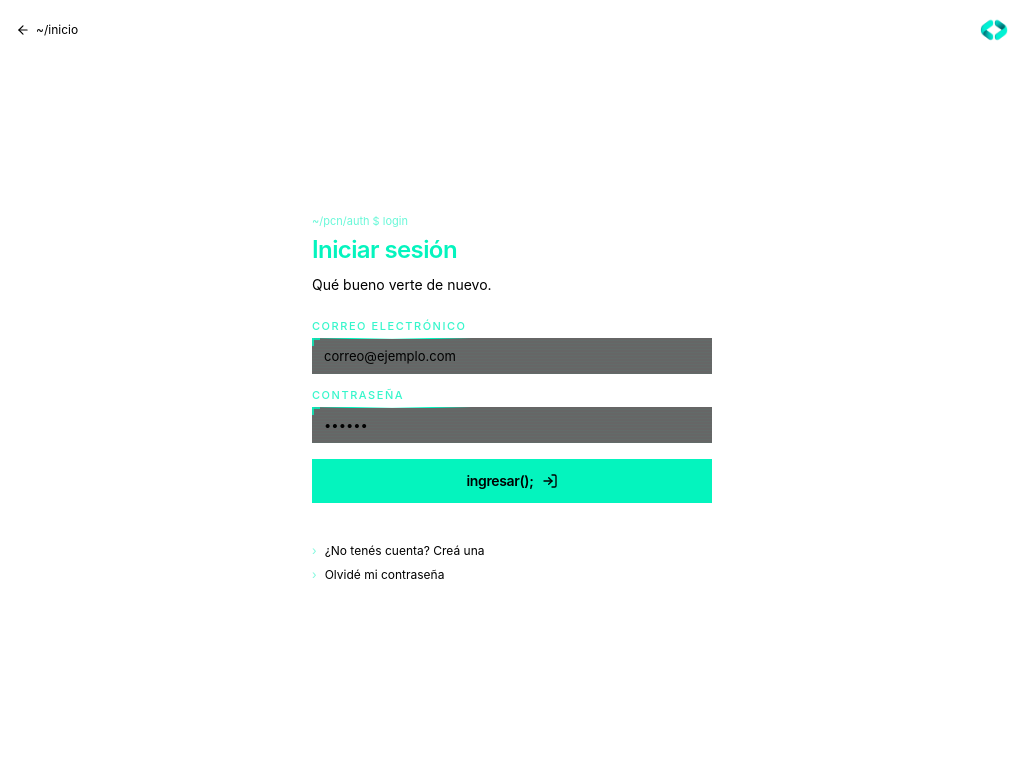
Test: SignInPage › two-factor step › reports a wrong code and goes back to the password when it expires
Type "ana@example.com" into the field labelled "Correo electrónico" at [512, 356], box 312,338 -> 712,374
Type "secreta" into the password field labelled "Contraseña" at [512, 425], box 312,407 -> 712,443
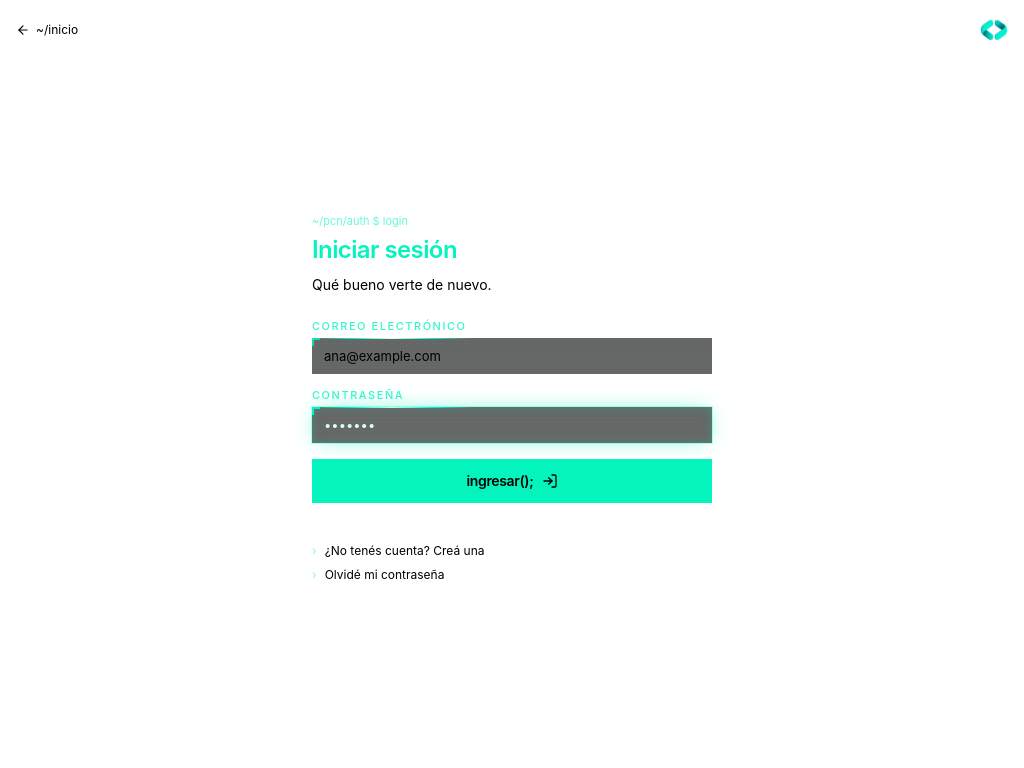
Click the button "ingresar();" at [512, 481], box 312,459 -> 712,503
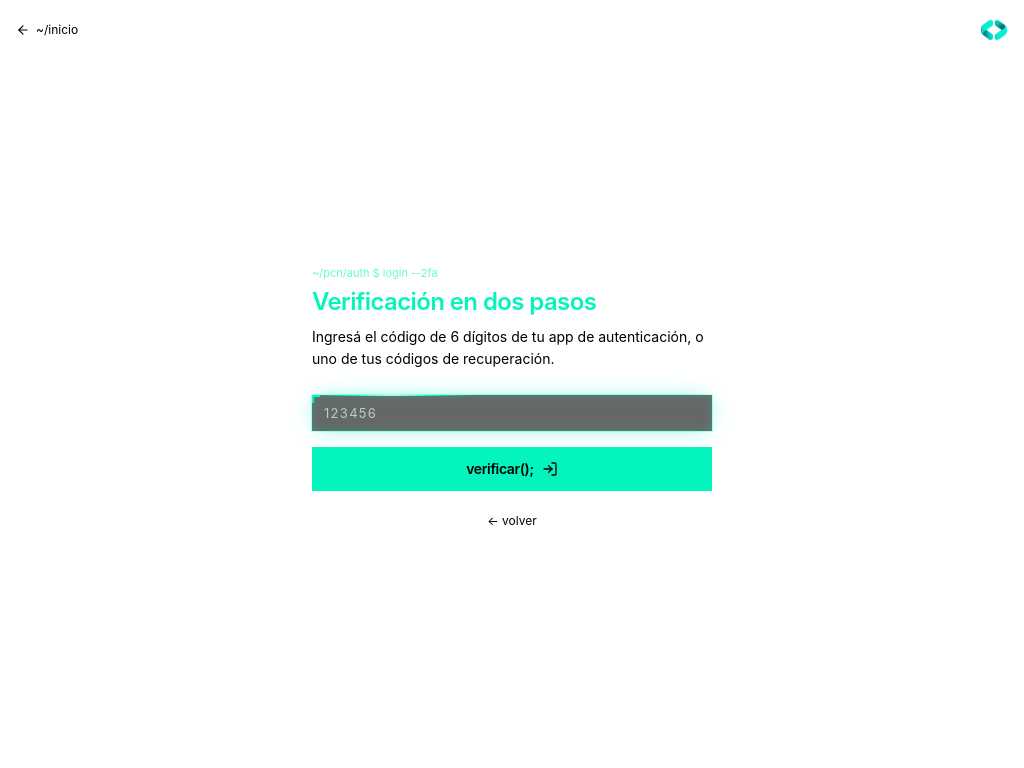
Type "000000" into the field named "Código de verificación" at [512, 413], box 312,395 -> 712,431
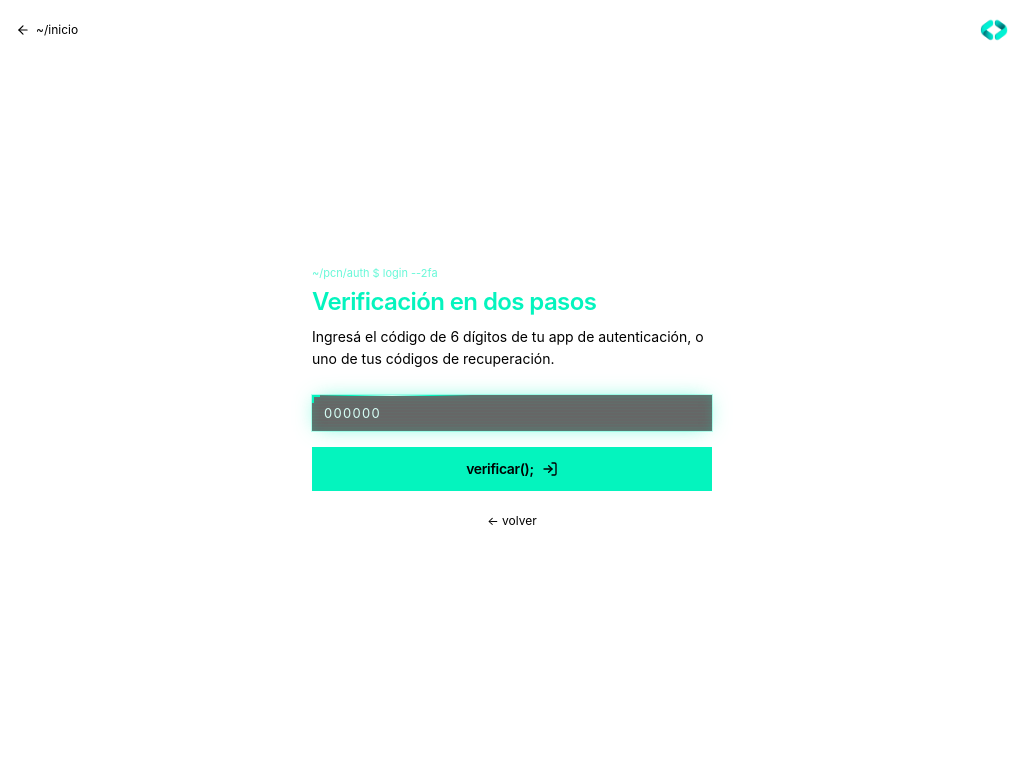
Click the button "verificar();" at [512, 469], box 312,447 -> 712,491
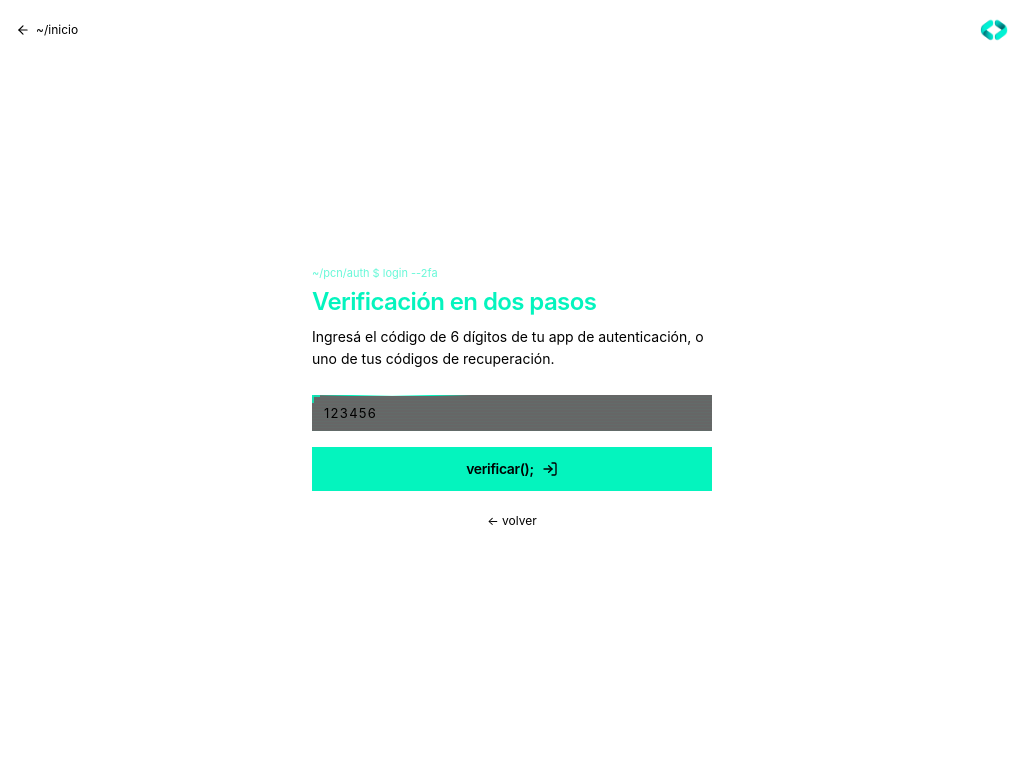
Type "111111" into the field named "Código de verificación" at [512, 413], box 312,395 -> 712,431
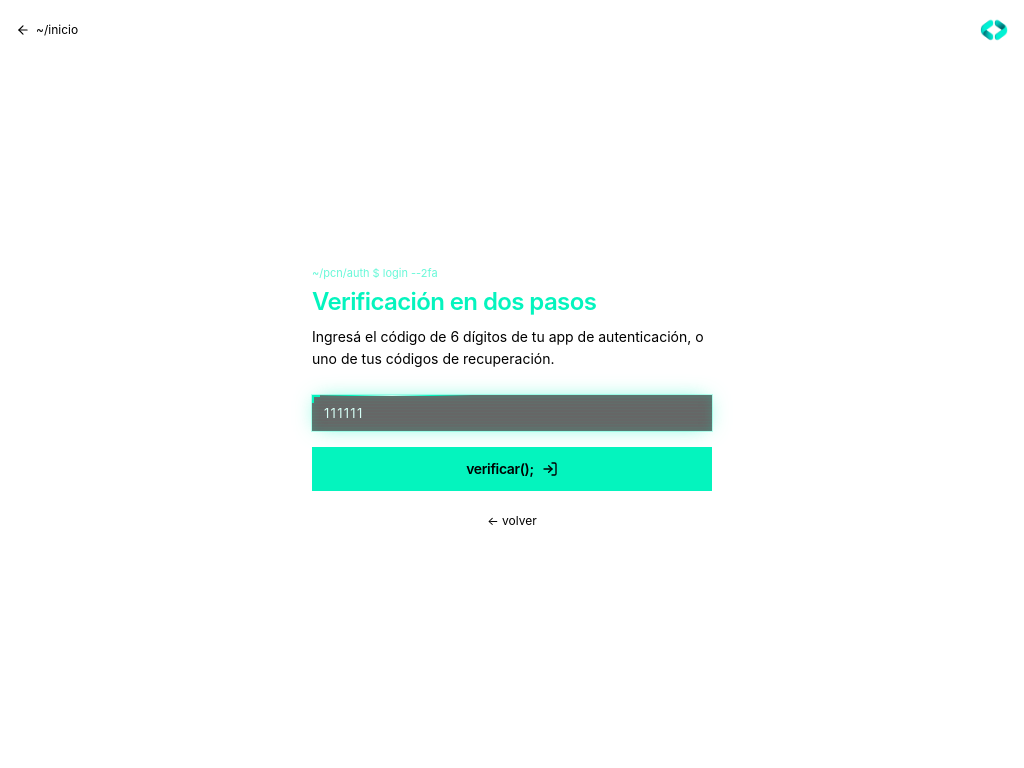
Click the button "verificar();" at [512, 469], box 312,447 -> 712,491
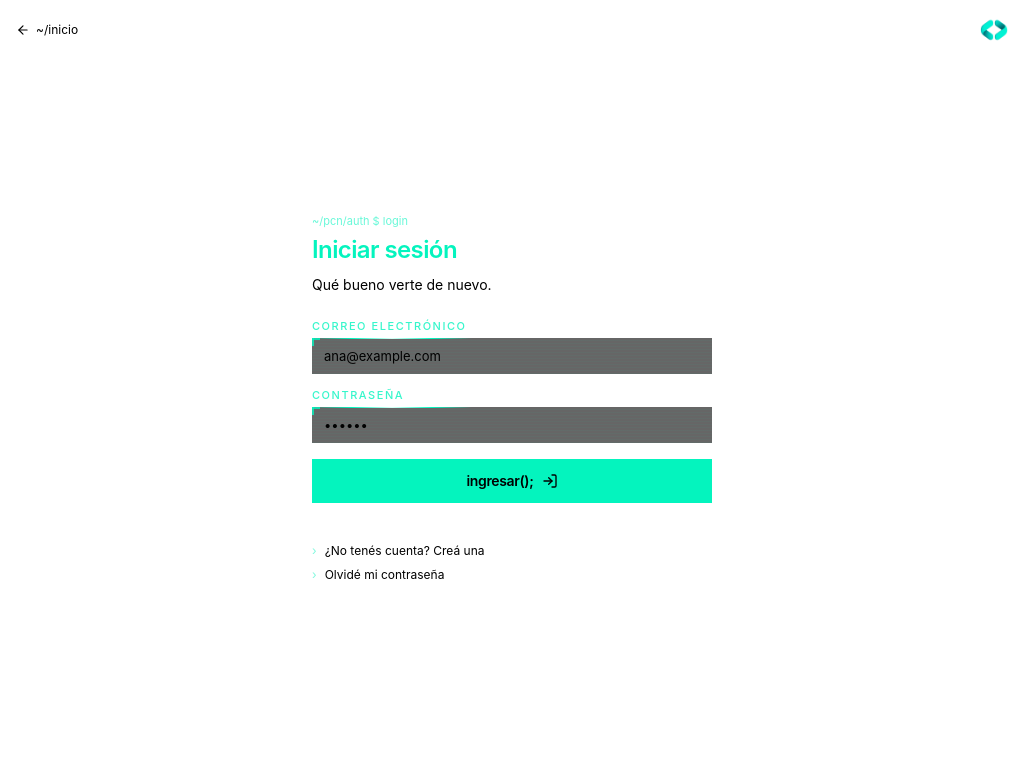
Now the password field labelled "Contraseña" is shown, box 312,407 -> 712,443
